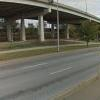Bridge: (6, 2, 85, 39)
